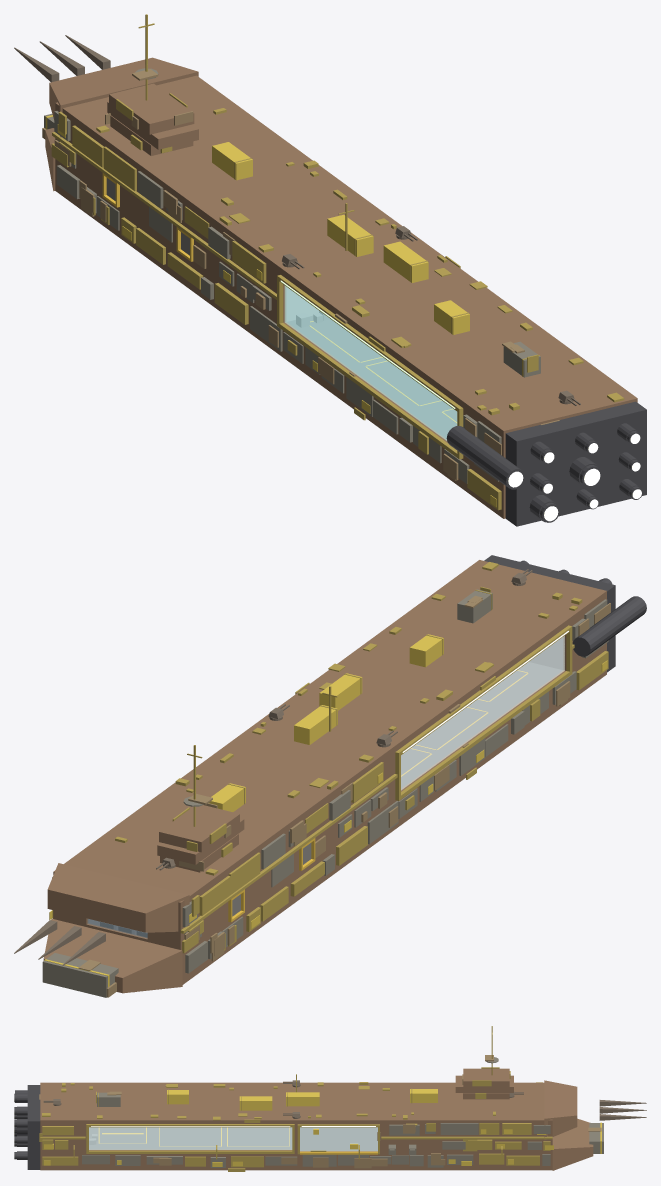
File: ship_MEDIUM.glb
3 renders of one model, top to bottom at view 1: azimuth 30°, elevation 25°; view 2: azimuth 150°, elevation 25°; view 3: azimuth 270°, elevation 25°, orthographic. The views are drawn at different scales.
Parts seen in each view (by area): view 1: MEDIUM_Hull-col, MEDIUM_Engines, MEDIUM_Trim, MEDIUM_Armor, MEDIUM_HangarShield_Port, MEDIUM_Accent, MEDIUM_Decks-col, MEDIUM_ScrapPlates, MEDIUM_ScrapTrim, MEDIUM_Details, MEDIUM_RamSpikes, MEDIUM_EngineGlow (+1 smaller); view 2: MEDIUM_Hull-col, MEDIUM_Trim, MEDIUM_Armor, MEDIUM_HangarShield_Port, MEDIUM_Decks-col, MEDIUM_Accent, MEDIUM_ScrapPlates, MEDIUM_Engines, MEDIUM_ScrapTrim, MEDIUM_Details, MEDIUM_RamSpikes, MEDIUM_Hazard; view 3: MEDIUM_Hull-col, MEDIUM_Trim, MEDIUM_HangarShield_Starboard, MEDIUM_Armor, MEDIUM_Decks-col, MEDIUM_Accent, MEDIUM_Engines, MEDIUM_CargoBayShield, MEDIUM_CargoBayDoor-col, MEDIUM_ScrapPlates, MEDIUM_ScrapTrim, MEDIUM_Details (+3 smaller).
Part boxes in pixels (x1,y1,x2,y2): MEDIUM_Hull-col: [45, 57, 637, 518]; MEDIUM_Engines: [446, 401, 646, 526]; MEDIUM_Trim: [52, 64, 539, 510]; MEDIUM_Armor: [44, 68, 540, 483]; MEDIUM_HangarShield_Port: [284, 286, 457, 440]; MEDIUM_Accent: [45, 115, 496, 507]; MEDIUM_Decks-col: [287, 315, 457, 438]; MEDIUM_ScrapPlates: [42, 69, 559, 480]; MEDIUM_ScrapTrim: [51, 14, 538, 454]; MEDIUM_Details: [96, 108, 624, 415]; MEDIUM_RamSpikes: [14, 35, 110, 82]; MEDIUM_EngineGlow: [508, 433, 641, 521]; MEDIUM_Hull-col: [43, 560, 606, 993]; MEDIUM_Trim: [52, 590, 608, 933]; MEDIUM_Armor: [42, 589, 608, 997]; MEDIUM_HangarShield_Port: [401, 636, 564, 790]; MEDIUM_Decks-col: [88, 662, 562, 934]; MEDIUM_Accent: [44, 634, 607, 986]; MEDIUM_ScrapPlates: [78, 595, 610, 997]; MEDIUM_Engines: [484, 555, 646, 672]; MEDIUM_ScrapTrim: [172, 586, 540, 953]; MEDIUM_Details: [115, 562, 582, 875]; MEDIUM_RamSpikes: [14, 920, 105, 965]; MEDIUM_Hazard: [228, 670, 528, 922]; MEDIUM_Hull-col: [40, 1068, 593, 1170]; MEDIUM_Trim: [40, 1055, 552, 1167]; MEDIUM_HangarShield_Starboard: [89, 1127, 292, 1149]; MEDIUM_Armor: [82, 1057, 603, 1167]; MEDIUM_Decks-col: [89, 1127, 292, 1149]; MEDIUM_Accent: [44, 1089, 601, 1166]; MEDIUM_Engines: [14, 1085, 40, 1169]; MEDIUM_CargoBayShield: [300, 1127, 377, 1151]; MEDIUM_CargoBayDoor-col: [300, 1127, 377, 1150]; MEDIUM_ScrapPlates: [39, 1055, 601, 1168]; MEDIUM_ScrapTrim: [39, 1026, 542, 1171]; MEDIUM_Details: [42, 1082, 495, 1120].
Size of the model in its own units: 26.7 by 32.55 by 149.
